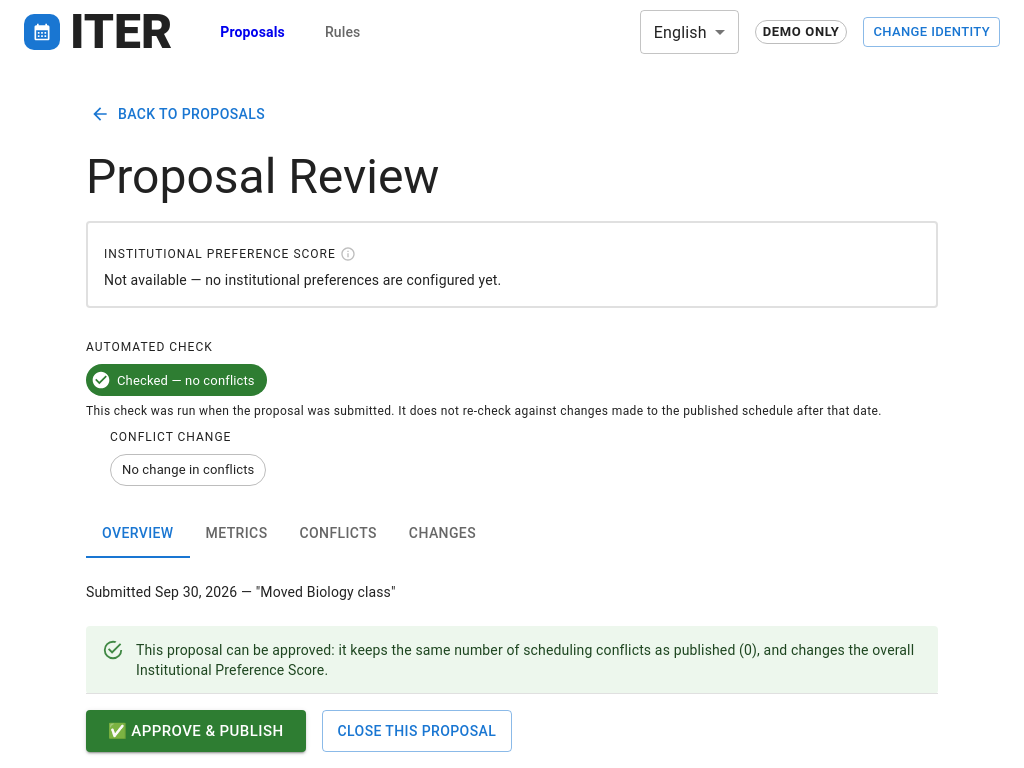
ProposalReviewPage › can cancel the approve dialog
Click the button "✅ Approve & Publish": x=196, y=731 [86,710,306,752]
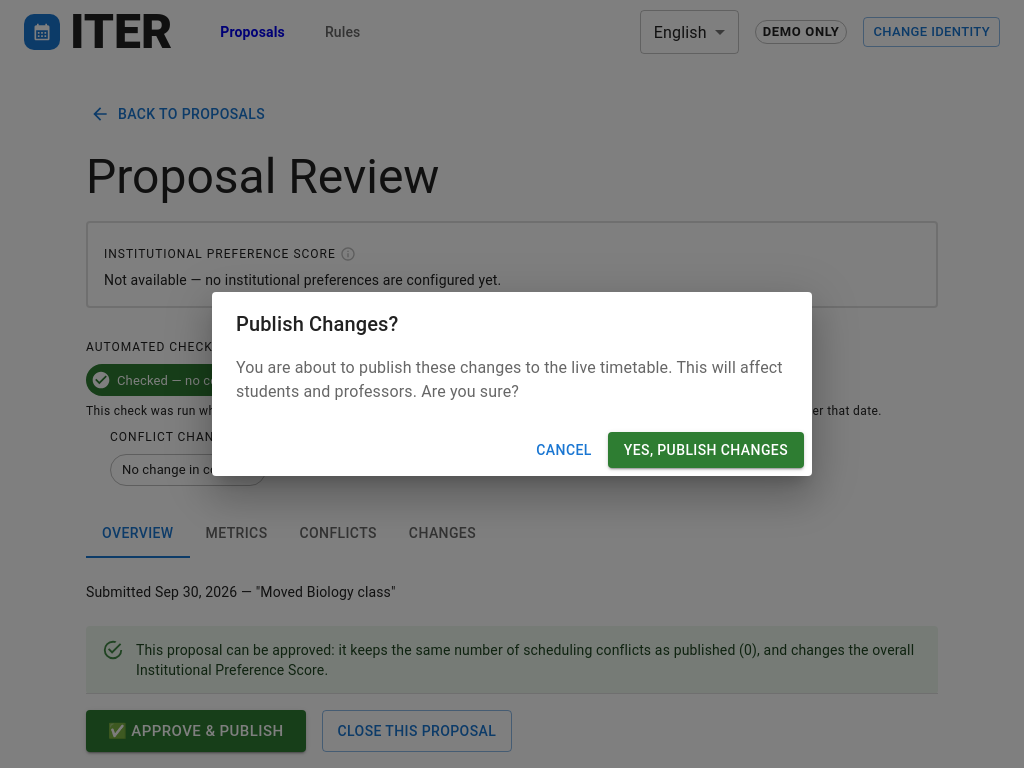
Expected: the heading "Publish Changes?" is shown, [236,312,398,336]
Click the button "Cancel": x=564, y=450 [528,432,600,468]
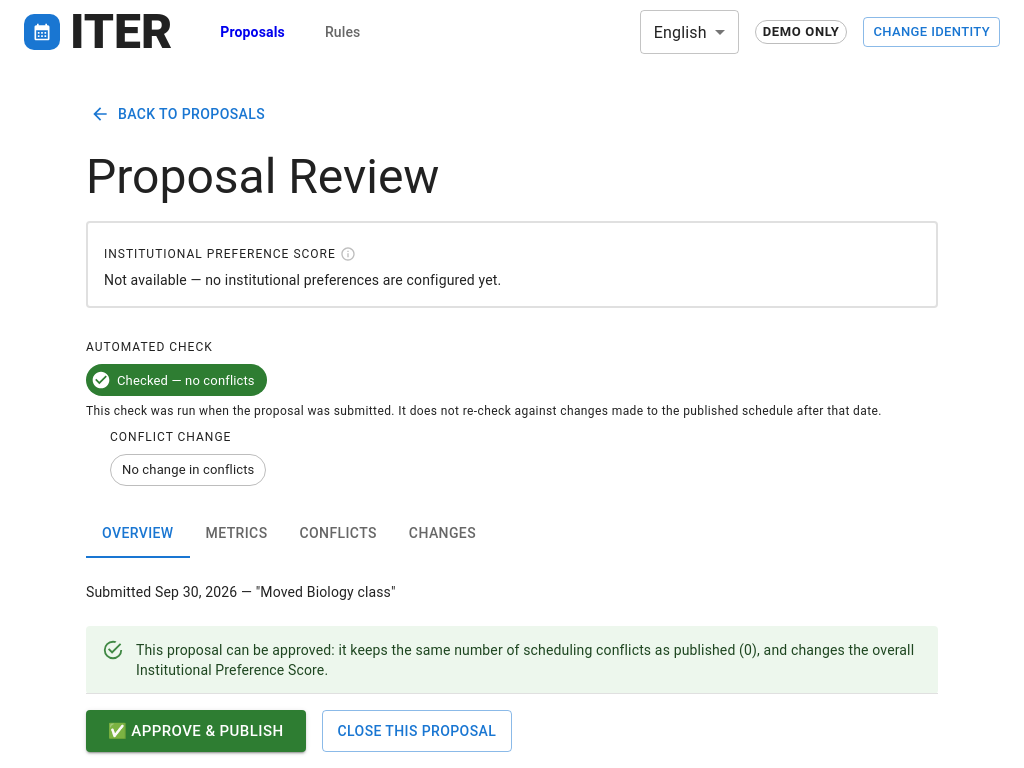
Expected: the heading "Publish Changes" is gone
